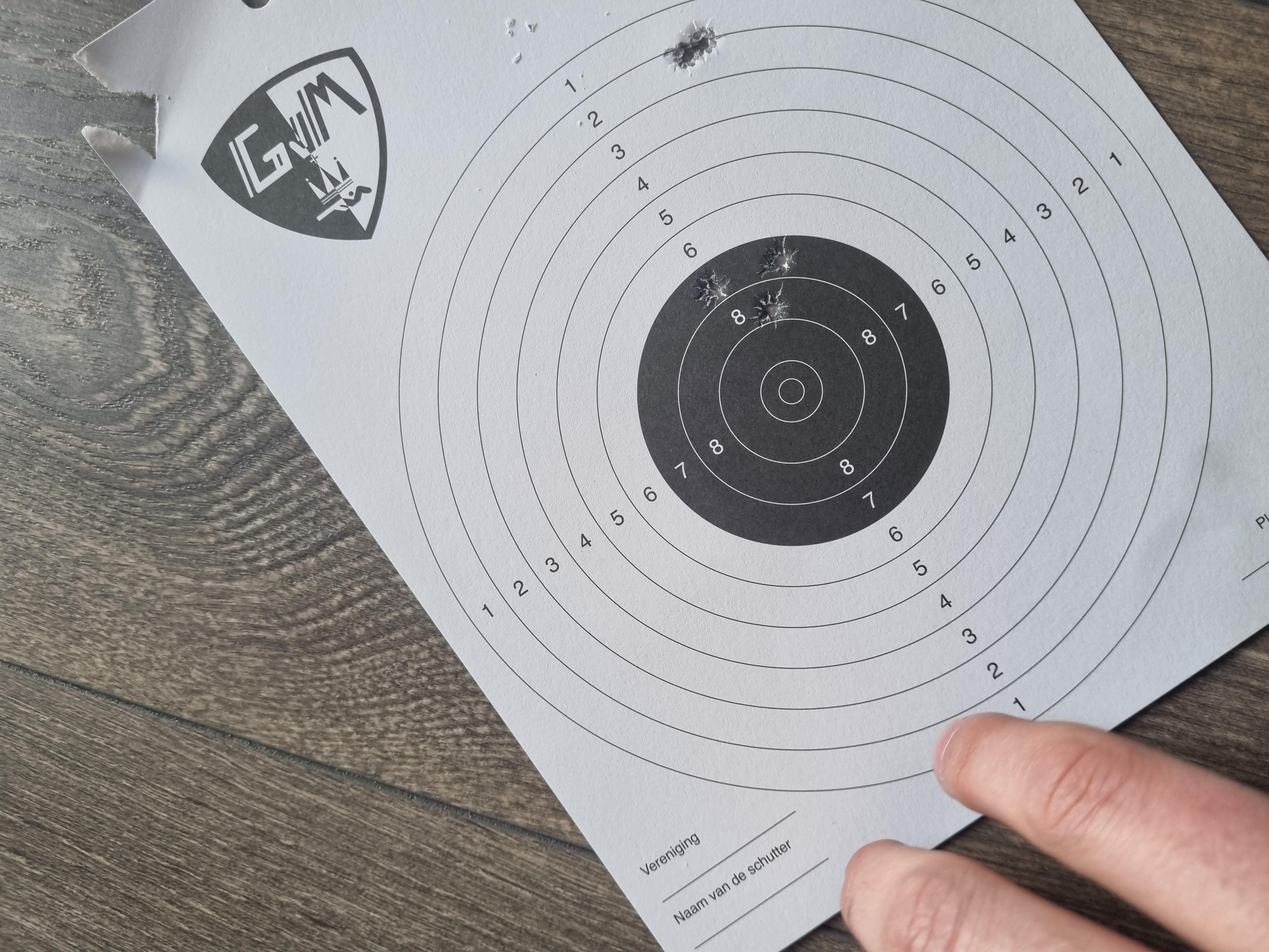hole: (898, 567, 954, 600), (830, 564, 891, 592), (858, 520, 911, 546), (1170, 499, 1216, 524), (1194, 516, 1238, 541)
